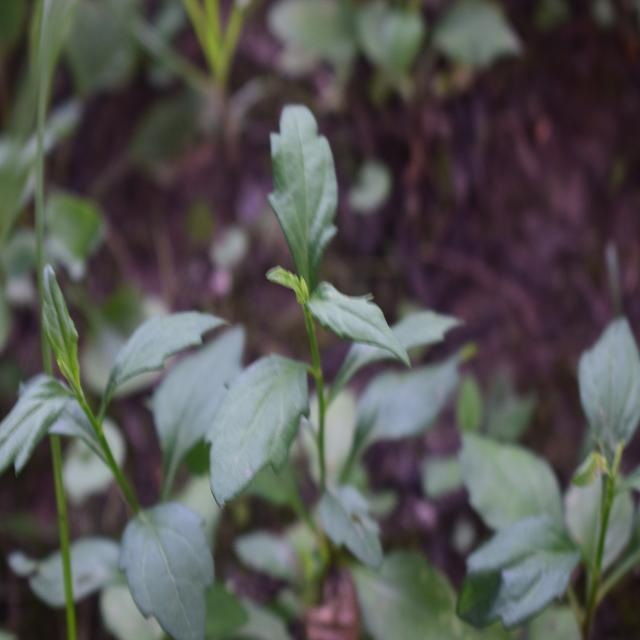Indian aster: (203, 115, 434, 564), (26, 264, 222, 618)
